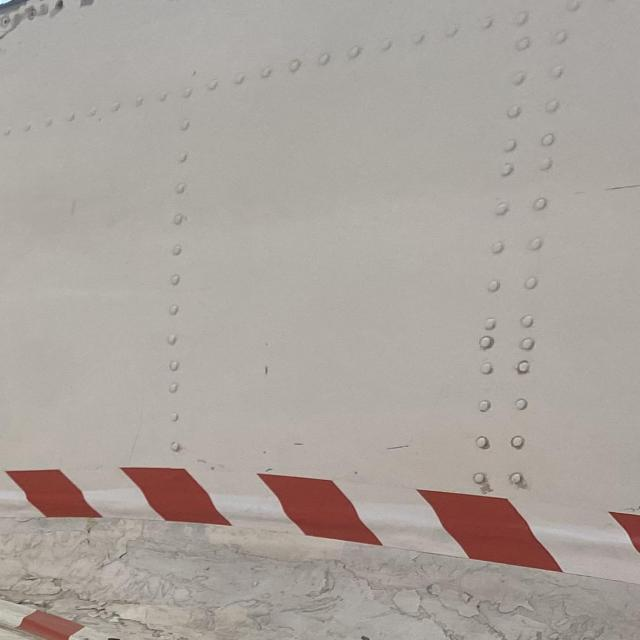Paint-off: (0, 518, 640, 640), (474, 471, 495, 492)
